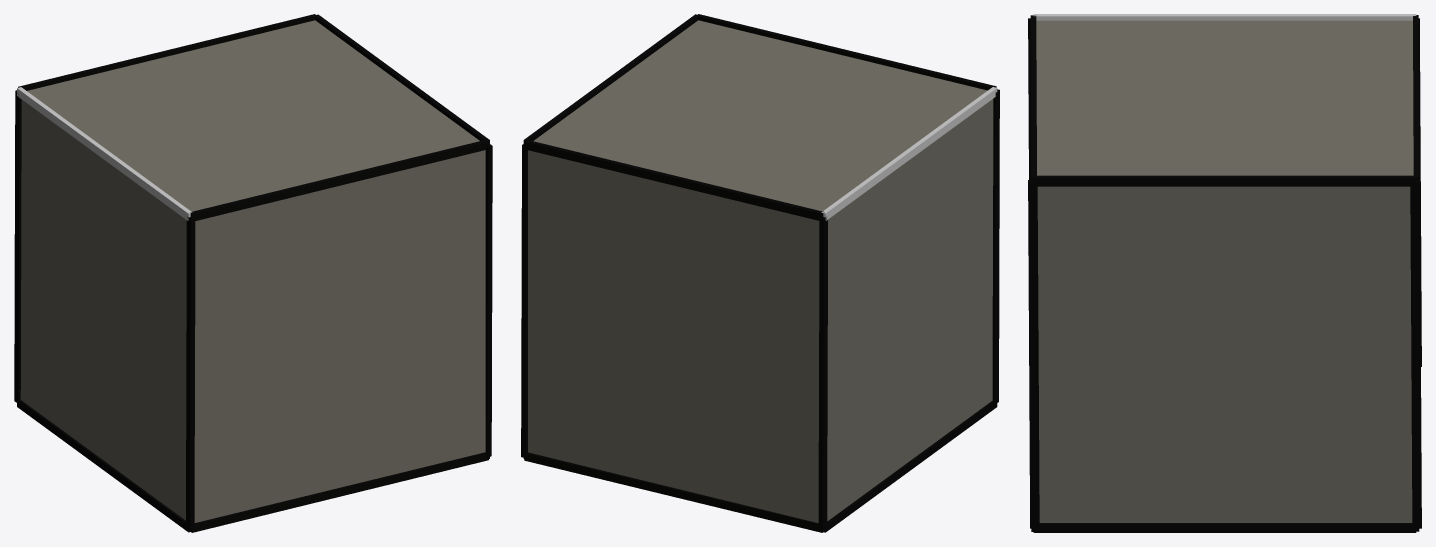
Rendered from Environnement.glb.
3 views of the same model, side by side, from view 1: azimuth 30°, elevation 25°; view 2: azimuth 150°, elevation 25°; view 3: azimuth 270°, elevation 25° (orthographic). The views are drawn at different scales.
Parts seen in each view (by area): view 1: Cube.580, Cube.004, Cube.010, Cube.011, Cube.008, Cube.009, Cube.002, Cube.003, Cube.006, Cube.001; view 2: Cube.580, Cube.003, Cube.009, Cube.012, Cube.010, Cube.002, Cube.007, Cube.004, Cube.006, Cube.001; view 3: Cube.580, Cube.001, Cube.005, Cube.007, Cube.008, Cube.002, Cube.004, Cube.003, Cube.009, Cube.010.
Part boxes in pixels (<box>): Cube.580: <box>20,20,485,522</box>; Cube.004: <box>190,140,488,220</box>; Cube.010: <box>186,217,195,529</box>; Cube.011: <box>190,452,488,532</box>; Cube.008: <box>485,144,492,457</box>; Cube.009: <box>14,90,21,403</box>; Cube.002: <box>17,87,192,220</box>; Cube.003: <box>18,14,316,90</box>; Cube.006: <box>17,399,190,532</box>; Cube.001: <box>314,14,489,143</box>; Cube.580: <box>528,20,993,522</box>; Cube.003: <box>524,140,824,220</box>; Cube.009: <box>818,217,827,530</box>; Cube.012: <box>524,452,823,532</box>; Cube.010: <box>992,89,999,404</box>; Cube.002: <box>821,87,997,220</box>; Cube.007: <box>521,144,527,457</box>; Cube.004: <box>698,14,996,90</box>; Cube.006: <box>823,399,997,532</box>; Cube.001: <box>523,14,699,143</box>; Cube.580: <box>1036,20,1413,522</box>; Cube.001: <box>1033,175,1416,186</box>; Cube.005: <box>1033,523,1416,532</box>; Cube.007: <box>1410,179,1421,528</box>; Cube.008: <box>1028,180,1039,528</box>; Cube.002: <box>1033,14,1416,20</box>; Cube.004: <box>1030,15,1036,180</box>; Cube.003: <box>1413,15,1419,180</box>; Cube.009: <box>1418,18,1421,366</box>; Cube.010: <box>1028,18,1031,179</box>.
Bounding box in the file's own units: 2.03 × 2.05 × 2.06.
13 materials, 13 textured.
